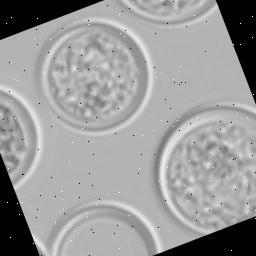picoshell: (38, 16, 154, 134), (157, 102, 256, 233), (49, 200, 164, 256), (0, 83, 43, 188), (118, 0, 219, 27), (33, 231, 53, 256)
